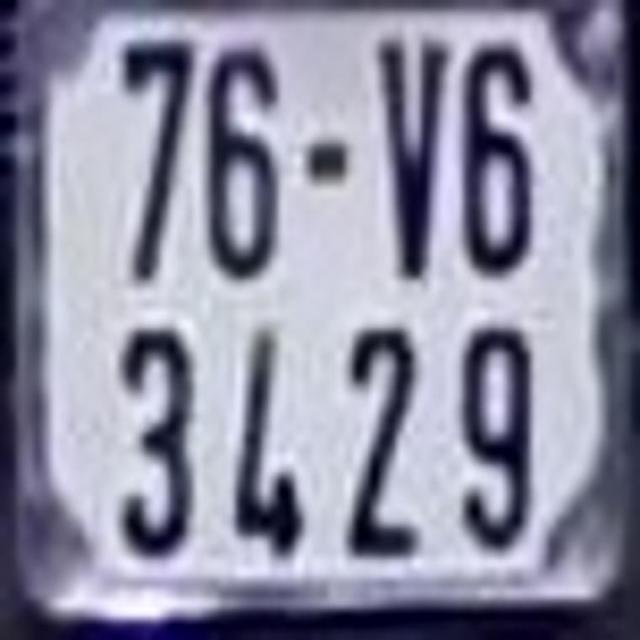2: (343, 320, 422, 560)
3: (114, 322, 198, 559)
4: (228, 322, 308, 561)
6: (203, 42, 282, 279), (460, 37, 537, 280)
7: (116, 35, 195, 284)
9: (456, 321, 536, 554)
V: (372, 32, 455, 282)
